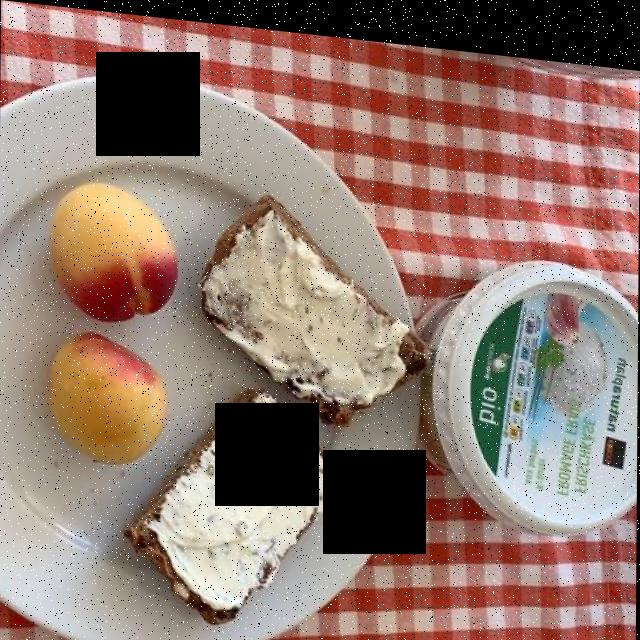apricots: (29, 191, 175, 455)
bread-fruit: (137, 181, 386, 614)
